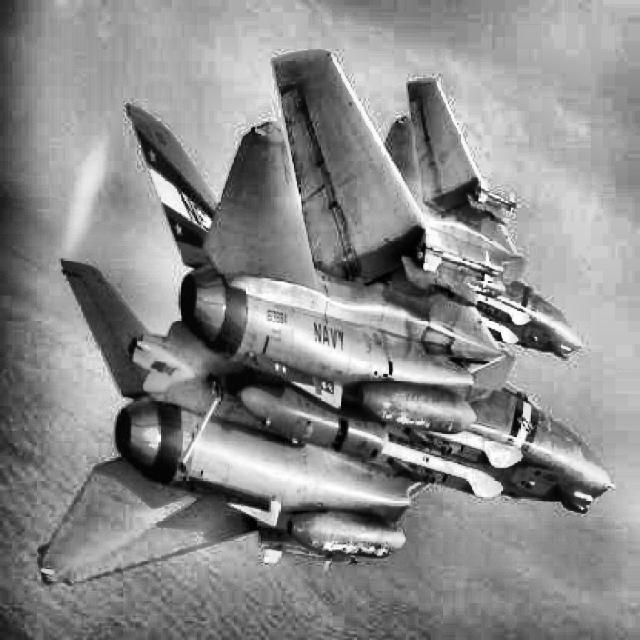F14: (38, 48, 618, 587), (383, 77, 586, 360)
